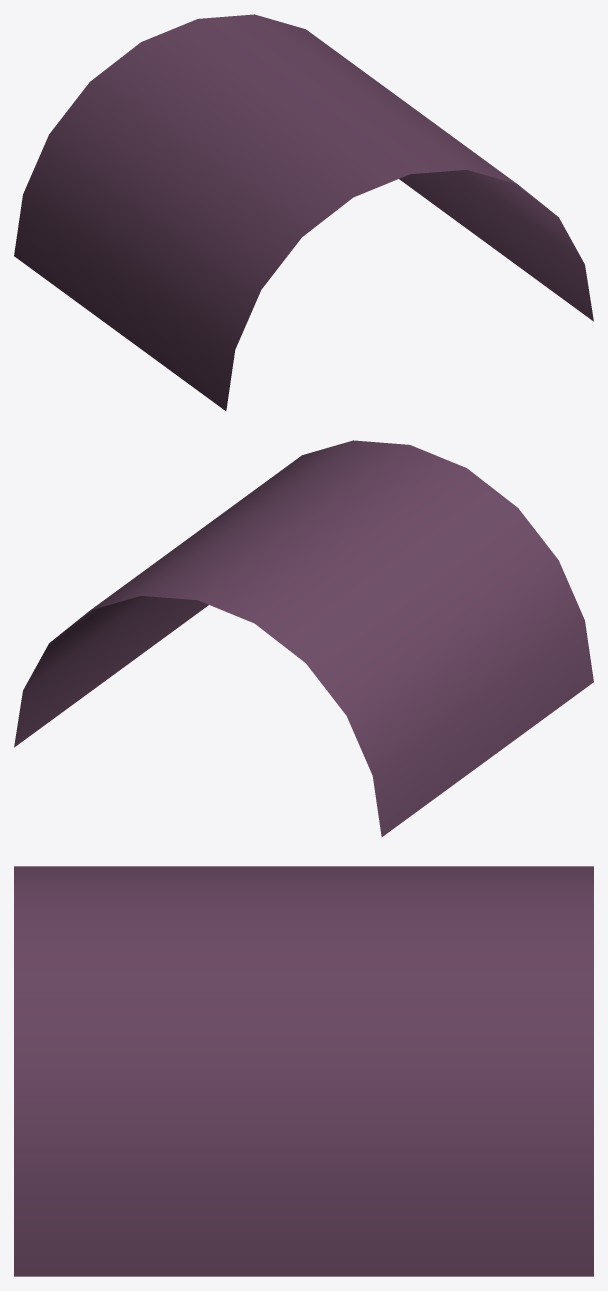
Rendered from Tile14_fix.fbx.
3 views of the same model, one above another, from view 1: azimuth 30°, elevation 25°; view 2: azimuth 150°, elevation 25°; view 3: azimuth 270°, elevation 25° (orthographic). The views are drawn at different scales.
Visible parts, largest first — view 1: Tile14; view 2: Tile14; view 3: Tile14.
Boxes of the visible parts, x1=… form: Tile14: x1=14, y1=14, x2=593, y2=410; Tile14: x1=14, y1=440, x2=593, y2=836; Tile14: x1=14, y1=866, x2=593, y2=1276.
Size of the model in its own units: 500 by 250 by 500.
